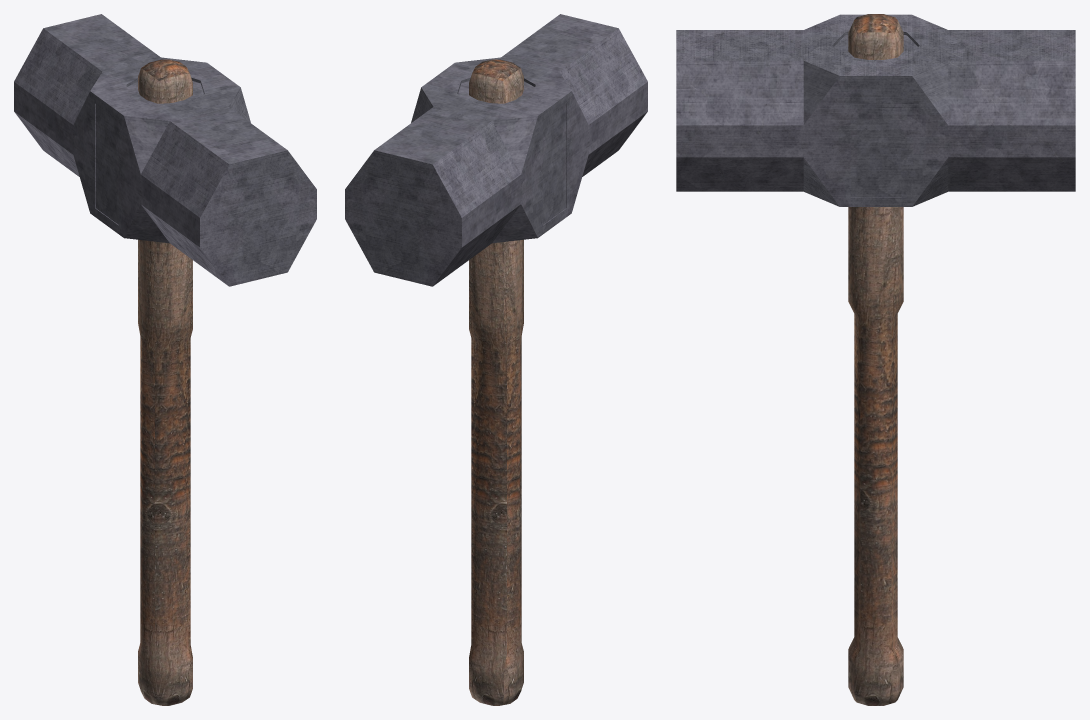
File: anvil hammer.fbx
3 renders of one model, left to right at view 1: azimuth 30°, elevation 25°; view 2: azimuth 150°, elevation 25°; view 3: azimuth 270°, elevation 25°, orthographic. The views are drawn at different scales.
Visible parts, largest first — view 1: HammerHead.002, anvil hammer; view 2: HammerHead.002, anvil hammer; view 3: HammerHead.002, anvil hammer.
Part boxes in pixels (left/top/right/bottom): HammerHead.002: left=14, top=14, right=316, bottom=286; anvil hammer: left=138, top=59, right=192, bottom=705; HammerHead.002: left=345, top=14, right=647, bottom=286; anvil hammer: left=469, top=59, right=523, bottom=705; HammerHead.002: left=676, top=14, right=1075, bottom=206; anvil hammer: left=848, top=14, right=903, bottom=705.
Size of the model in its own units: 6.87 by 35.86 by 18.96.
2 materials, 2 textured.
